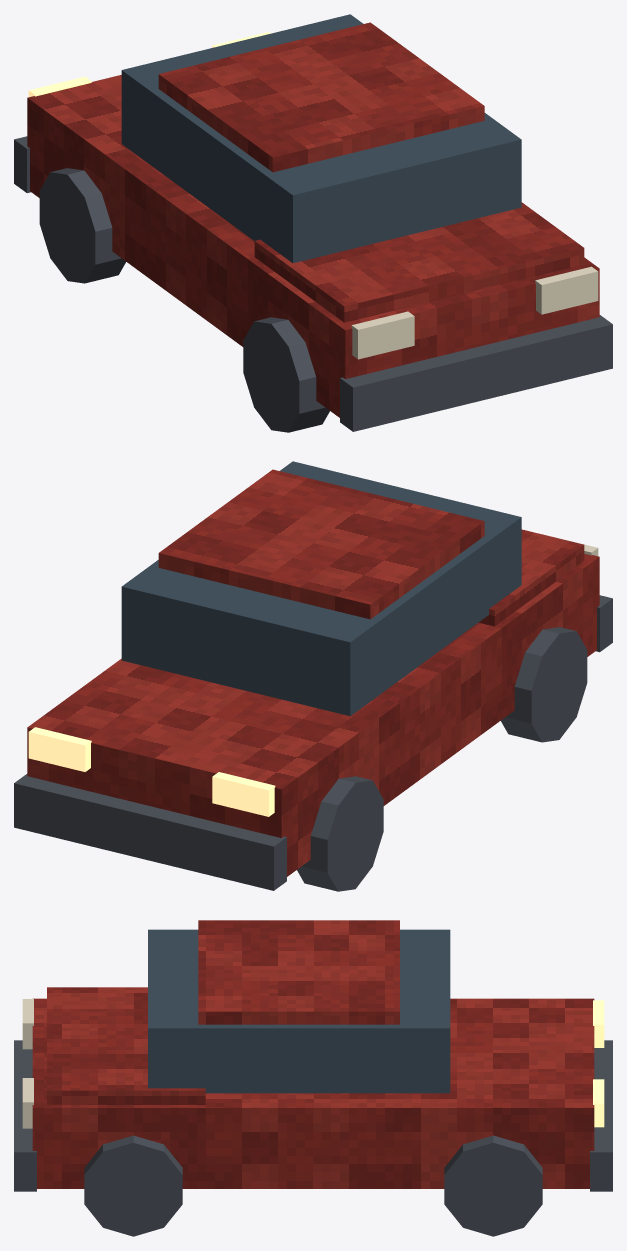
File: ENV_C_CompactCar_Red.fbx
The picture shows the model from 3 angles, top to bottom: view 1: azimuth 30°, elevation 25°; view 2: azimuth 150°, elevation 25°; view 3: azimuth 270°, elevation 25°; orthographic projection. The views are drawn at different scales.
Visible parts, largest first — view 1: ENV_C_CompactCar_Red; view 2: ENV_C_CompactCar_Red; view 3: ENV_C_CompactCar_Red.
Boxes of the visible parts, box(x1,y1,x2,y2) form: ENV_C_CompactCar_Red: box(14, 14, 612, 432); ENV_C_CompactCar_Red: box(14, 461, 612, 891); ENV_C_CompactCar_Red: box(14, 920, 612, 1236).
Bounding box in the file's own units: 204 × 160 × 416.
5 materials, 1 textured.
